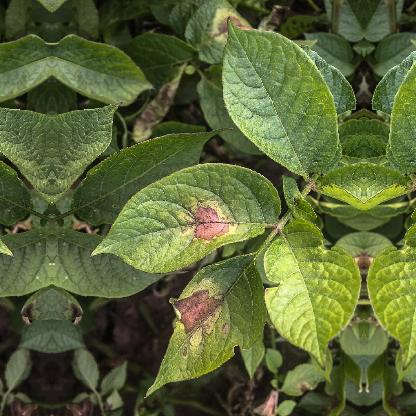Late-Blight: (91, 162, 291, 258), (136, 266, 276, 380), (58, 4, 152, 102), (182, 2, 280, 63), (0, 4, 45, 102)
